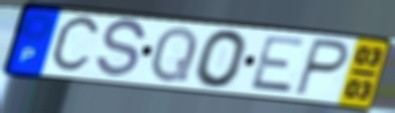C: (47, 13, 104, 77)
E: (247, 34, 309, 95)
O: (192, 28, 250, 90)
P: (292, 36, 352, 99)
Q: (148, 24, 201, 85)
S: (93, 17, 148, 81)
